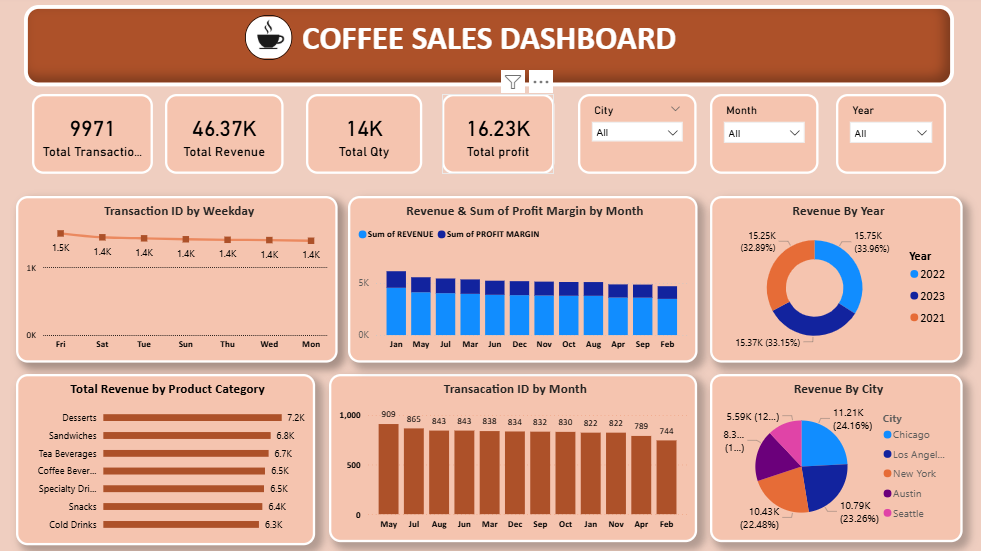

Layout of this report page (visuals, bound fields, positions):
{"tool":"powerbi","page":{"name":"Page 1","canvas":[1280,720],"ordinal":0},"visuals":[{"type":"textbox","box":[36.9,11.3,1200.5,104.9],"z":0},{"type":"lineChart","title":"Transaction ID by Weekday","fields":{"Category":["Coffee_sales.Weekday"],"Y":["CountNonNull(Coffee_sales.TRANSACTION ID)"]},"box":[26.9,258,415.3,215.4],"z":1000},{"type":"donutChart","title":"Revenue By Year","fields":{"Category":["Coffee_sales.Year"],"Y":["Sum(Coffee_sales.REVENUE)"]},"box":[922.7,258,326,215.4],"z":2000},{"type":"clusteredBarChart","title":"Total Revenue by Product Category","fields":{"Category":["Coffee_sales.PRODUCT CATEGORY"],"Y":["Coffee_sales.Total Revenue"]},"box":[26.9,487.6,385.5,221.1],"z":3000},{"type":"clusteredColumnChart","title":"Transacation ID by Month","fields":{"Category":["Coffee_sales.Month"],"Y":["CountNonNull(Coffee_sales.TRANSACTION ID)"]},"box":[430.9,487.6,474.8,216.9],"z":4000},{"type":"pieChart","title":"Revenue By City","fields":{"Category":["Coffee_sales.City"],"Y":["Sum(Coffee_sales.REVENUE)"]},"box":[922.7,487.6,326,216.9],"z":5000},{"type":"columnChart","title":"Revenue & Sum of Profit Margin by Month","fields":{"Category":["Coffee_sales.Month"],"Y":["Sum(Coffee_sales.REVENUE)","Sum(Coffee_sales.PROFIT MARGIN)"]},"box":[455,258,450.7,215.4],"z":6000},{"type":"card","fields":{"Values":["Coffee_sales.Total Transactions"]},"box":[48.2,126.1,155.9,103.5],"z":7000},{"type":"card","fields":{"Values":["Coffee_sales.Total Revenue"]},"box":[219.7,126.1,153.1,103.5],"z":8000},{"type":"card","fields":{"Values":["Coffee_sales.Total Qty"]},"box":[401.1,126.1,150.2,103.5],"z":9000},{"type":"card","fields":{"Values":["Coffee_sales.Total profit"]},"box":[576.9,126.1,144.6,103.5],"z":10000},{"type":"slicer","fields":{"Values":["Coffee_sales.City"]},"box":[752.6,126.1,153.1,103.5],"z":11000},{"type":"slicer","fields":{"Values":["Coffee_sales.Year"]},"box":[1085.7,126.1,141.7,103.5],"z":12000},{"type":"slicer","fields":{"Values":["Coffee_sales.Month"]},"box":[922.7,126.1,140.3,103.5],"z":13000},{"type":"image","box":[323.1,24.1,60.9,58.1],"z":14000}]}

Visuals, with their boxes in screenshot pixels (x1, y1, x2, y2), scaled from the page's 1280x720 canvas onto the 981x551 screenshot:
textbox: bbox=[28, 9, 948, 89]
"Transaction ID by Weekday" lineChart: bbox=[21, 197, 339, 362]
"Revenue By Year" donutChart: bbox=[707, 197, 957, 362]
"Total Revenue by Product Category" clusteredBarChart: bbox=[21, 373, 316, 542]
"Transacation ID by Month" clusteredColumnChart: bbox=[330, 373, 694, 539]
"Revenue By City" pieChart: bbox=[707, 373, 957, 539]
"Revenue & Sum of Profit Margin by Month" columnChart: bbox=[349, 197, 694, 362]
card - Coffee_sales.Total Transactions: bbox=[37, 97, 156, 176]
card - Coffee_sales.Total Revenue: bbox=[168, 97, 286, 176]
card - Coffee_sales.Total Qty: bbox=[307, 97, 423, 176]
card - Coffee_sales.Total profit: bbox=[442, 97, 553, 176]
slicer - Coffee_sales.City: bbox=[577, 97, 694, 176]
slicer - Coffee_sales.Year: bbox=[832, 97, 941, 176]
slicer - Coffee_sales.Month: bbox=[707, 97, 815, 176]
image: bbox=[248, 18, 294, 63]
